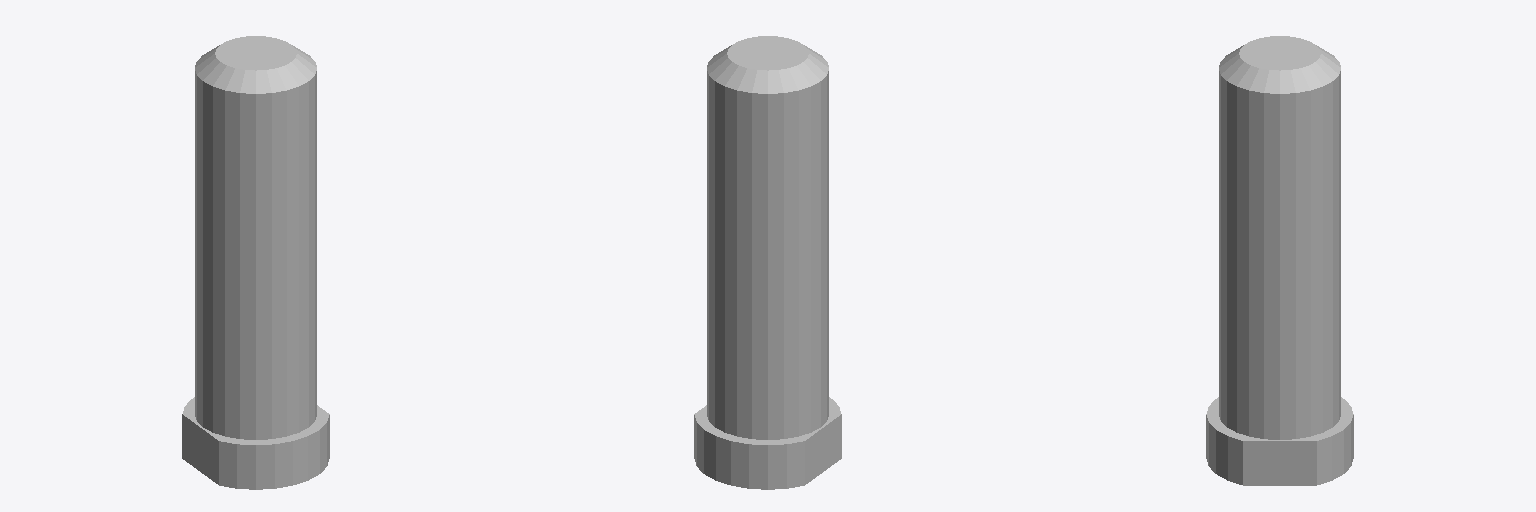
The model's file is punto braille.obj.
3 renders of one model, left to right at view 1: azimuth 30°, elevation 25°; view 2: azimuth 150°, elevation 25°; view 3: azimuth 270°, elevation 25°, orthographic.
Parts seen in each view (by area): view 1: Mesh1 COMPONENT0 Model; view 2: Mesh1 COMPONENT0 Model; view 3: Mesh1 COMPONENT0 Model.
Part boxes in pixels (x1,y1,x2,y2): Mesh1 COMPONENT0 Model: (182,36,329,489); Mesh1 COMPONENT0 Model: (694,36,841,489); Mesh1 COMPONENT0 Model: (1206,36,1353,485).
Size of the model in its own units: 1.48 by 5.19 by 1.71.